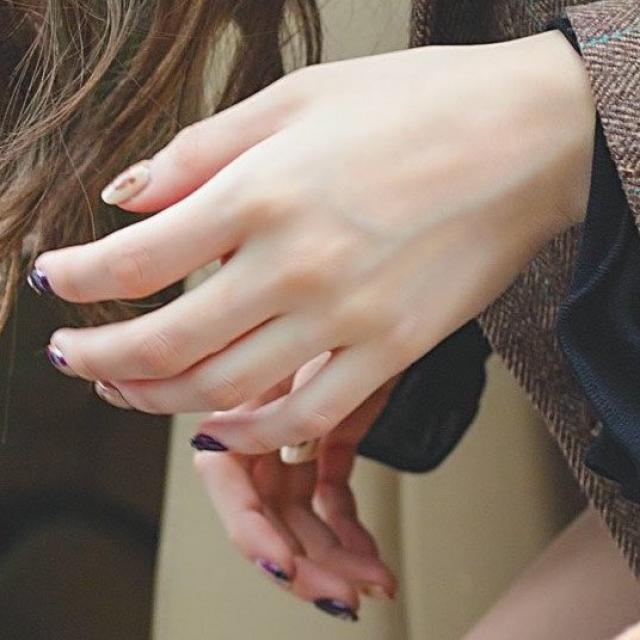bare_hand: (26, 43, 585, 456)
